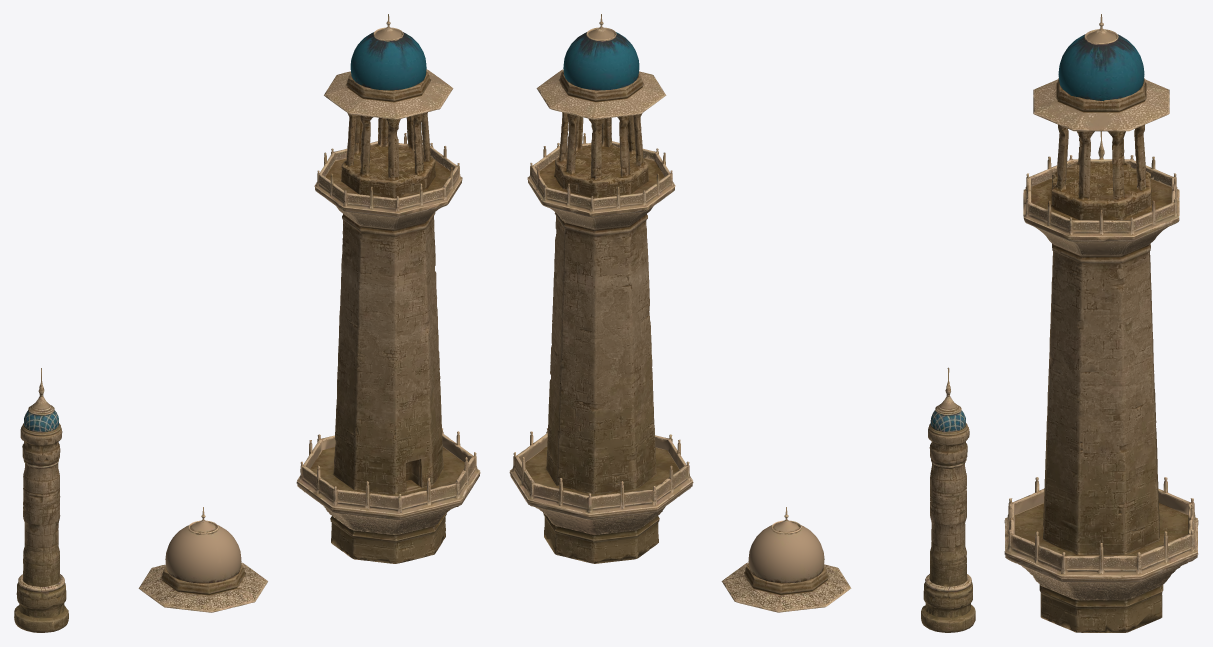
File: desert__fortress__towers.glb
The picture shows the model from 3 angles, left to right: view 1: azimuth 30°, elevation 25°; view 2: azimuth 150°, elevation 25°; view 3: azimuth 270°, elevation 25°; orthographic projection. The views are drawn at different scales.
Parts seen in each view (by area): view 1: DesertTemple_Tower_Medium_01.001_Tower_Medium_01_0, DesertTemple_Pillar_Bulb_01_Pillar_Bulb_01_0, DesertTemple_Tower_Medium_01_Tower_Dome_01_0; view 2: DesertTemple_Tower_Medium_01.001_Tower_Medium_01_0, DesertTemple_Pillar_Bulb_01_Pillar_Bulb_01_0, DesertTemple_Tower_Medium_01_Tower_Dome_01_0; view 3: DesertTemple_Tower_Medium_01.001_Tower_Medium_01_0.
Boxes of the visible parts, x1,y1,x2,y2 form: DesertTemple_Tower_Medium_01.001_Tower_Medium_01_0: (296, 14, 480, 563); DesertTemple_Pillar_Bulb_01_Pillar_Bulb_01_0: (14, 368, 68, 632); DesertTemple_Tower_Medium_01_Tower_Dome_01_0: (138, 507, 267, 612); DesertTemple_Tower_Medium_01.001_Tower_Medium_01_0: (509, 14, 693, 563); DesertTemple_Pillar_Bulb_01_Pillar_Bulb_01_0: (921, 367, 975, 632); DesertTemple_Tower_Medium_01_Tower_Dome_01_0: (721, 507, 851, 612); DesertTemple_Tower_Medium_01.001_Tower_Medium_01_0: (1004, 14, 1198, 632).
Bounding box in the file's own units: 19.24 × 21.76 × 6.44.
3 materials, 3 textured.
